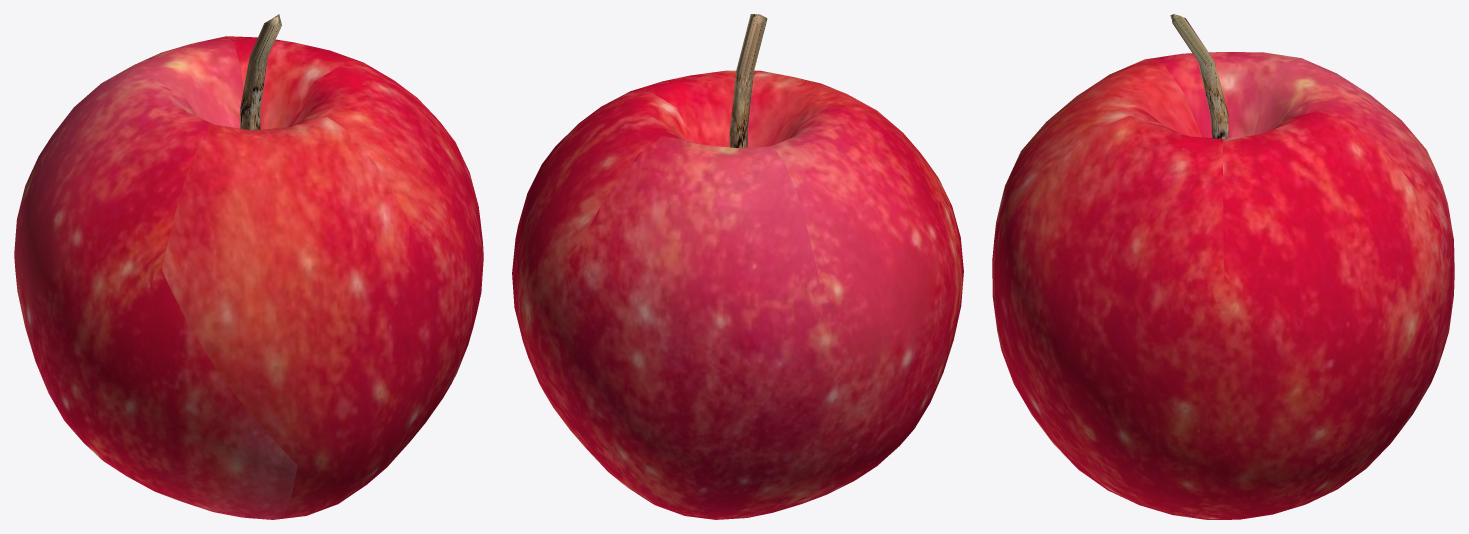
File: apple.fbx
The picture shows the model from 3 angles, left to right: view 1: azimuth 30°, elevation 25°; view 2: azimuth 150°, elevation 25°; view 3: azimuth 270°, elevation 25°; orthographic projection. The views are drawn at different scales.
Visible parts, largest first — view 1: Икосфера, Куб; view 2: Икосфера, Куб; view 3: Икосфера, Куб.
Part boxes in pixels (x1=…): Икосфера: x1=14, y1=36, x2=483, y2=519; Куб: x1=240, y1=14, x2=281, y2=130; Икосфера: x1=512, y1=70, x2=963, y2=519; Куб: x1=729, y1=14, x2=767, y2=147; Икосфера: x1=992, y1=52, x2=1454, y2=519; Куб: x1=1170, y1=14, x2=1228, y2=138.
Bounding box in the file's own units: 174 × 202 × 170.
